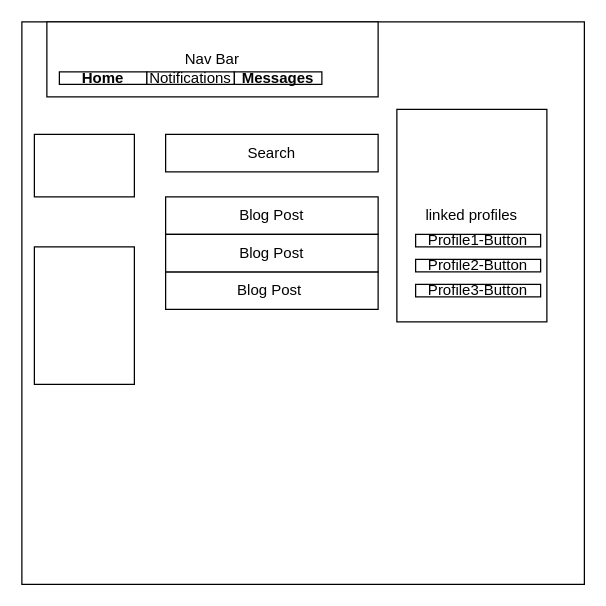
Image size: 606x606. Some labels were removed from this diagram. The centre of each missing label's shape, as x and y in pixels:
"HeaderName" goes at [83,165].
"person bio" goes at [83,315].
